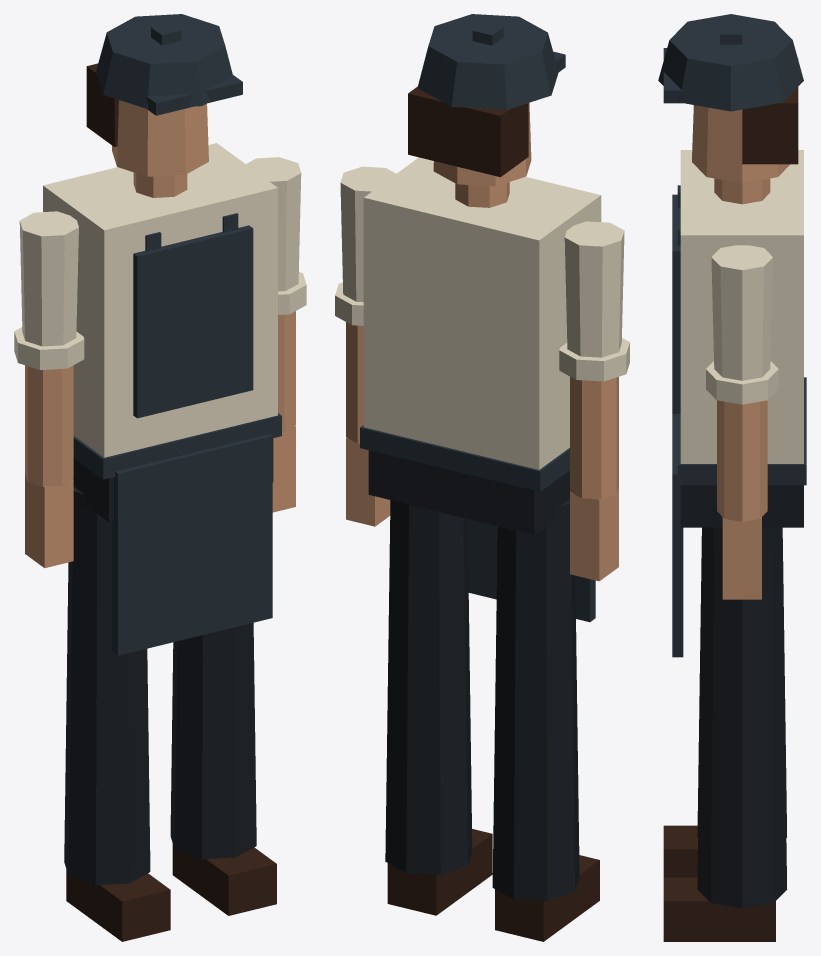
File: Clockmaker.fbx
3 views of the same model, side by side, from view 1: azimuth 30°, elevation 25°; view 2: azimuth 150°, elevation 25°; view 3: azimuth 270°, elevation 25° (orthographic).
Parts seen in each view (by area): view 1: Clockmaker_Mesh; view 2: Clockmaker_Mesh; view 3: Clockmaker_Mesh.
Boxes of the visible parts, x1,y1,x2,y2 form: Clockmaker_Mesh: [14, 14, 306, 941]; Clockmaker_Mesh: [335, 14, 629, 941]; Clockmaker_Mesh: [658, 14, 806, 941].
Bounding box in the file's own units: 59 × 172 × 26.5.
